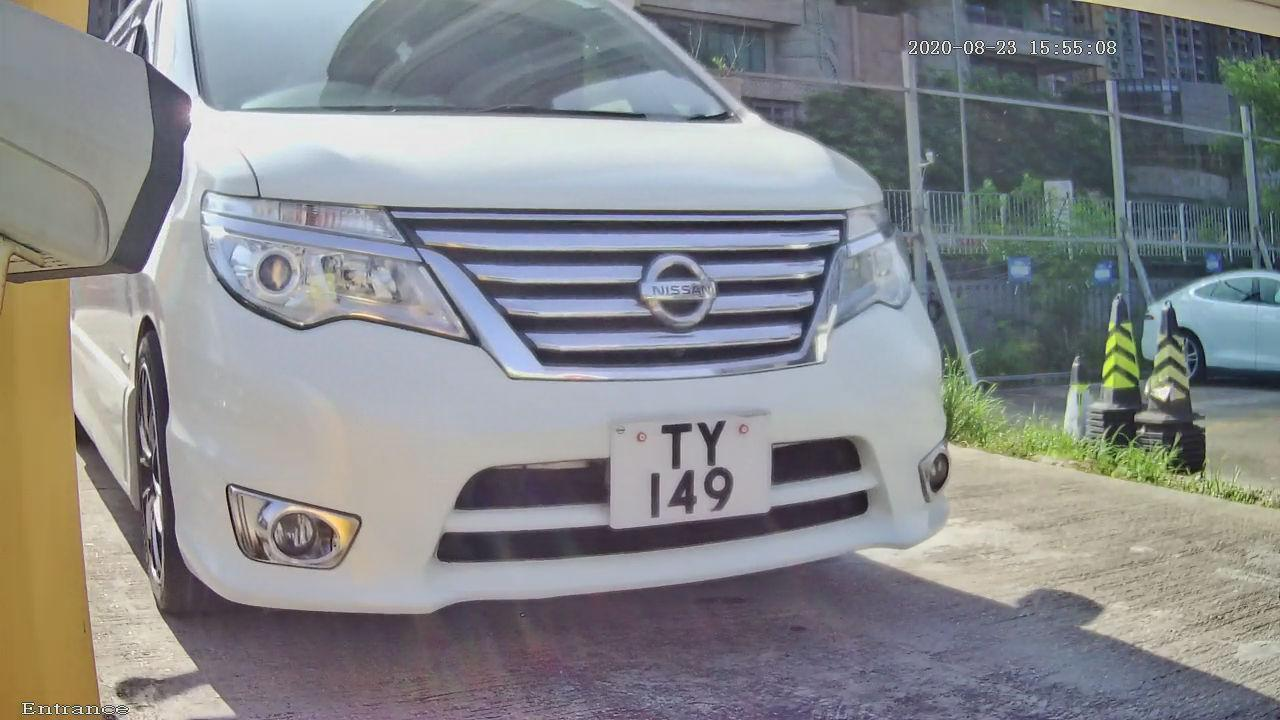Car: (29, 1, 1012, 704)
License Plate: (589, 396, 795, 547)
